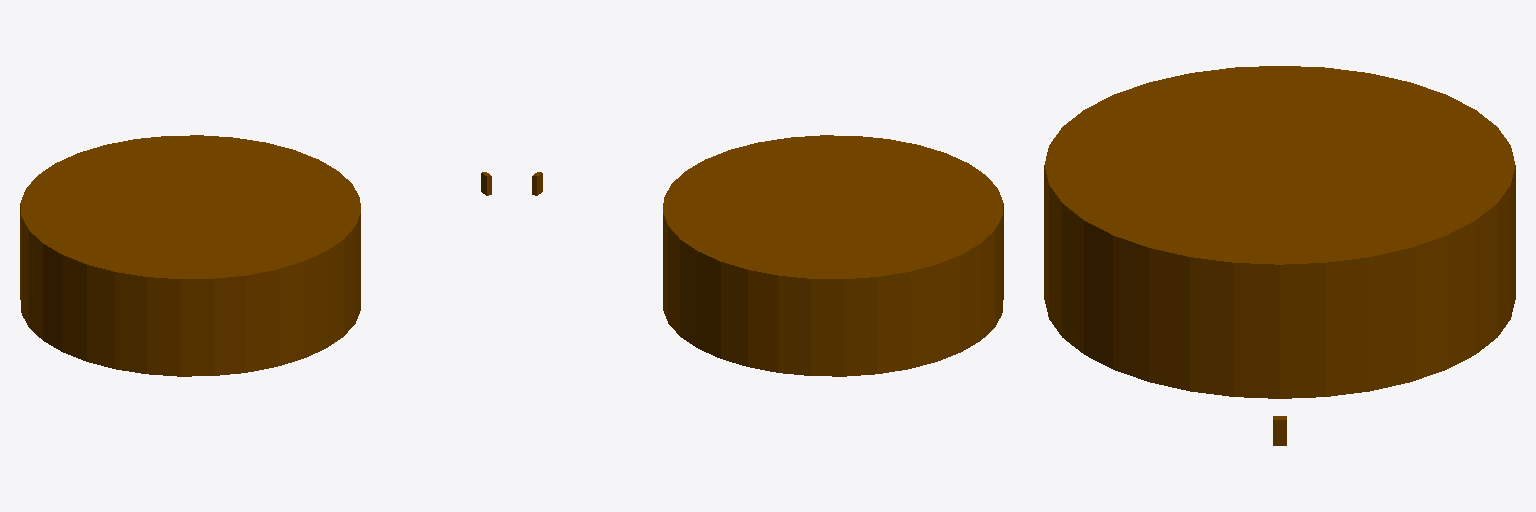
URDF robot description (dlidar_gazebo):
<?xml version="1.0" ?>
<!-- =================================================================================== -->
<!-- |    This document was autogenerated by xacro from ur3e_dlidar_macro.urdf.xacro   | -->
<!-- |    EDITING THIS FILE BY HAND IS NOT RECOMMENDED                                 | -->
<!-- =================================================================================== -->
<robot name="dlidar_gazebo">
  <!-- Base link -->
  <link name="dlidar_base">
    <!-- Visual -->
    <visual>
      <geometry>
        <cylinder length="0.02" radius="0.031783"/>
      </geometry>
      <origin rpy="0.0 0.0 0.0" xyz="0.0 0.0 0.0"/>
      <material name="black">
        <color rgba="0.5 0.3 0.0 1"/>
      </material>
    </visual>
    <!-- Collision -->
    <collision>
      <geometry>
        <cylinder length="0.02" radius="0.031783"/>
      </geometry>
    </collision>
    <!-- Interial -->
    <inertial>
      <origin xyz="0 0 0"/>
      <mass value="6"/>
      <inertia ixx="1" ixy="0" ixz="0" iyy="1" iyz="0" izz="1"/>
    </inertial>
  </link>
  <!-- Sensor link -->
  <link name="dlidar0">
    <!-- Visual -->
    <visual>
      <geometry>
        <box size="0.001 0.002 0.004"/>
      </geometry>
      <origin rpy="0 0 0.0" xyz="0.031783 0.0 0"/>
      <material name="yellow">
        <color rgba="0.5 0.3 0.0 1"/>
      </material>
    </visual>
    <!-- Collision -->
    <collision>
      <geometry>
        <box size="0.001 0.002 0.004"/>
      </geometry>
      <origin rpy="0 0 0.0" xyz="0.031783 0.0 0"/>
    </collision>
    <!-- Interial -->
    <inertial>
      <origin xyz="0 0 0"/>
      <mass value="6"/>
      <inertia ixx="1" ixy="0" ixz="0" iyy="1" iyz="0" izz="1"/>
    </inertial>
  </link>
  <!-- Sensor Joint -->
  <joint name="dlidar0_joints" type="fixed">
    <parent link="dlidar_base"/>
    <child link="dlidar0"/>
    <origin rpy="0 0 0.0" xyz="0.031783 0.0 0"/>
  </joint>
</robot>

--- Render facts (derived) ---
3 views of the same robot in one strip: view 1: azimuth 30°, elevation 25°; view 2: azimuth 150°, elevation 25°; view 3: azimuth 270°, elevation 25° (orthographic).
Robot: dlidar_gazebo — 2 links, 1 joints (1 fixed); root link dlidar_base; default pose: all joints at 0.
Visible links, largest first — view 1: dlidar_base; view 2: dlidar_base; view 3: dlidar_base.
Link boxes in pixels (x1=…): dlidar_base: x1=20, y1=135, x2=360, y2=376; dlidar_base: x1=663, y1=135, x2=1003, y2=376; dlidar_base: x1=1044, y1=66, x2=1515, y2=398.
Bounding box of the posed robot: 0.0958 × 0.0636 × 0.02 m (x, y, z).
Geometry: primitives only (box / cylinder / sphere), no mesh files.